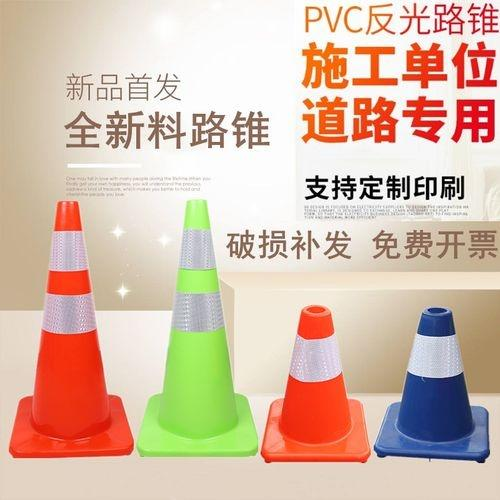cone_barrel: (146, 207, 251, 452), (22, 207, 121, 450), (384, 308, 478, 455), (270, 306, 357, 456)
